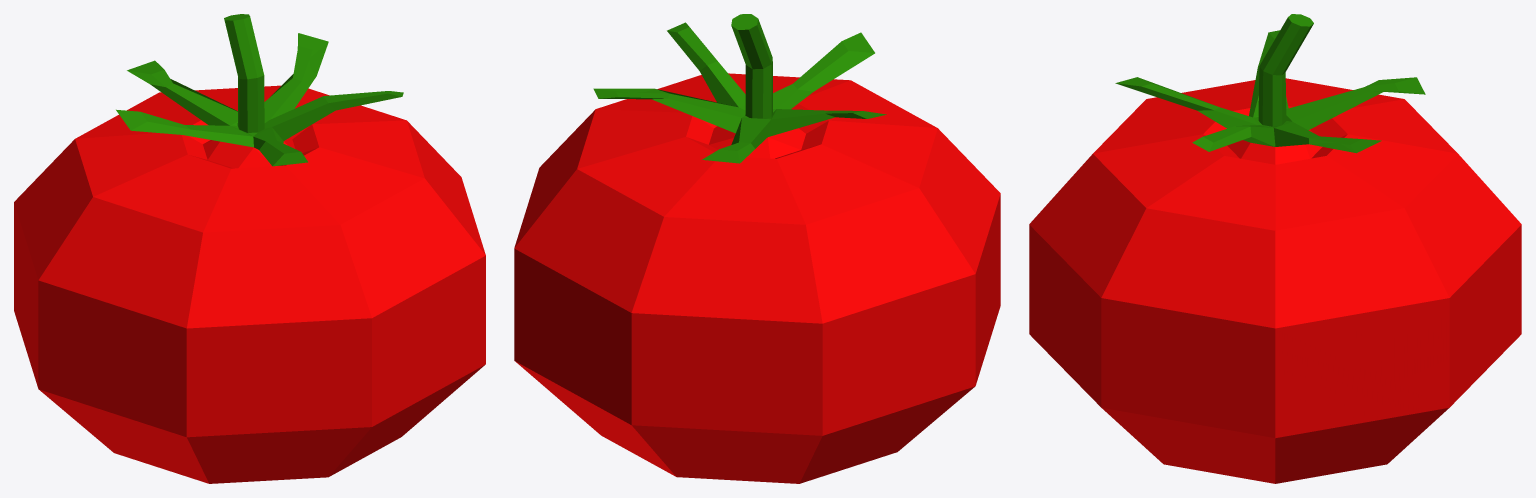
File: tomato01.obj
The picture shows the model from 3 angles, left to right: view 1: azimuth 30°, elevation 25°; view 2: azimuth 150°, elevation 25°; view 3: azimuth 270°, elevation 25°; orthographic projection. The views are drawn at different scales.
Parts seen in each view (by area): view 1: Cylinder; view 2: Cylinder; view 3: Cylinder.
Part boxes in pixels (left/top/right/bottom): Cylinder: left=14, top=14, right=485, bottom=483; Cylinder: left=514, top=14, right=1000, bottom=483; Cylinder: left=1029, top=14, right=1521, bottom=483.
Size of the model in its own units: 0.0472 by 0.0453 by 0.0472.
Materials: 1 (1 with a texture image).
